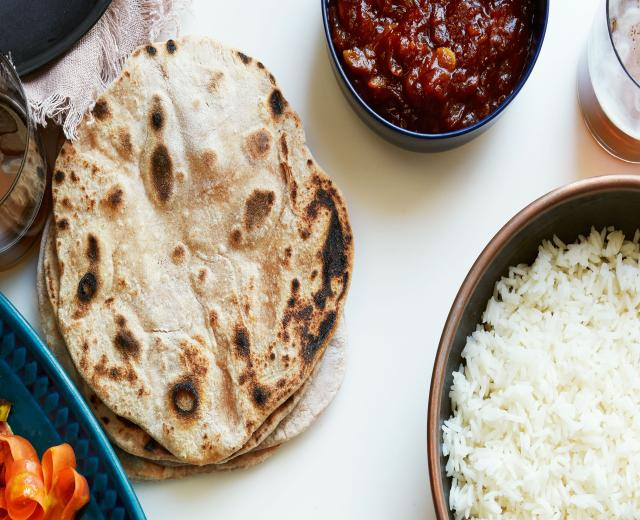chapati: (50, 37, 353, 465)
